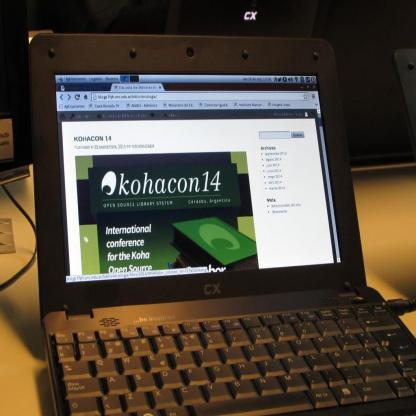board: (15, 44, 414, 414)
